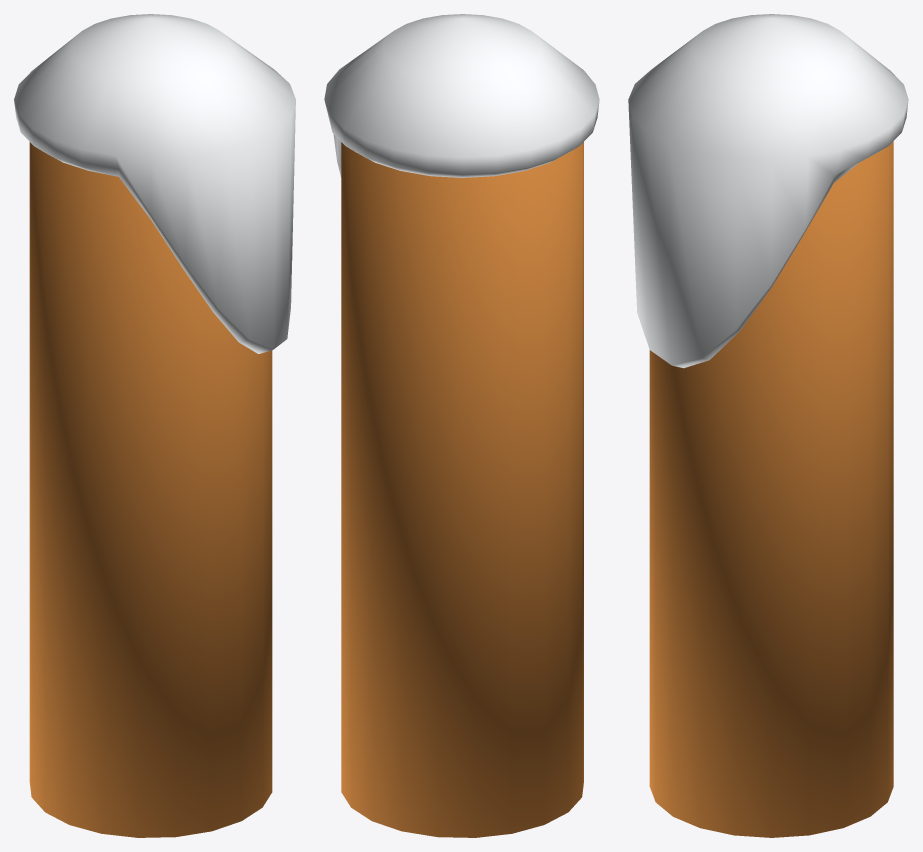
Rendered from Log_Single_03.glb.
3 views of the same model, side by side, from view 1: azimuth 30°, elevation 25°; view 2: azimuth 150°, elevation 25°; view 3: azimuth 270°, elevation 25° (orthographic).
Visible parts, largest first — view 1: Log_Single_03_Log, Log_Single_03_Snow; view 2: Log_Single_03_Log, Log_Single_03_Snow; view 3: Log_Single_03_Log, Log_Single_03_Snow.
Boxes of the visible parts, box(x1,y1,x2,y2) form: Log_Single_03_Log: box(29, 142, 272, 837); Log_Single_03_Snow: box(14, 14, 295, 353); Log_Single_03_Log: box(341, 142, 583, 837); Log_Single_03_Snow: box(324, 14, 599, 177); Log_Single_03_Log: box(649, 141, 893, 837); Log_Single_03_Snow: box(628, 14, 908, 368).
Bounding box in the file's own units: 0.2631 × 0.798 × 0.2641.
